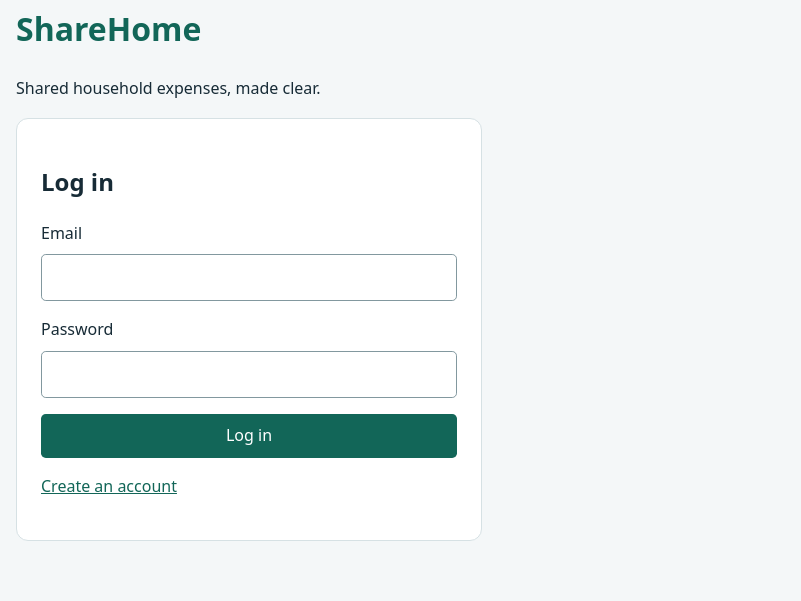
logs in, retrieves identity, stores only the token and logs out locally
In the field labelled "Email": (249, 278) [41,254,457,301], type "alex@example.com"
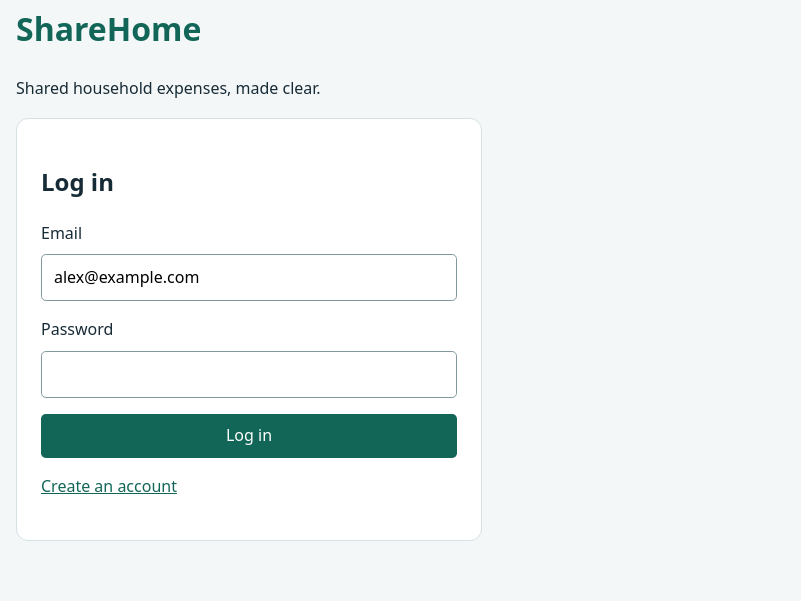
In the password field labelled "Password": (249, 374) [41,351,457,398], type "test-password"
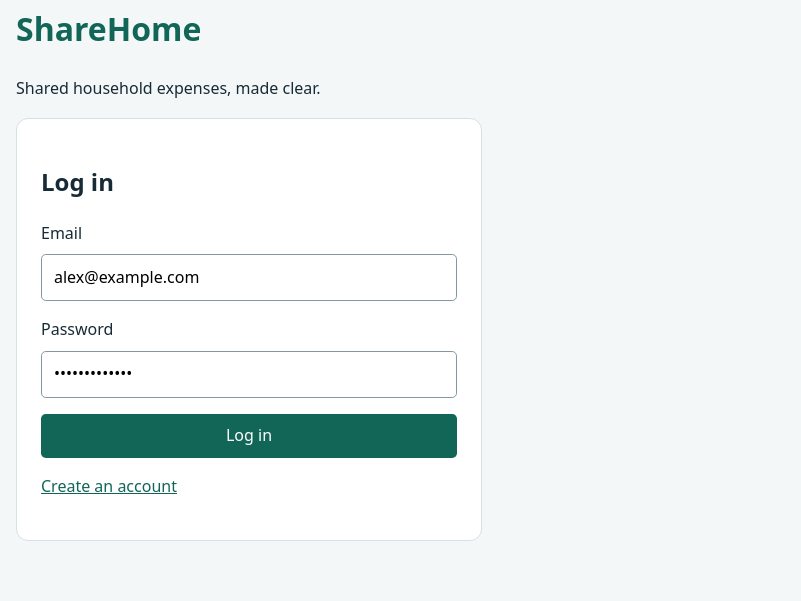
Click the button "Log in": (249, 436) [41,414,457,458]
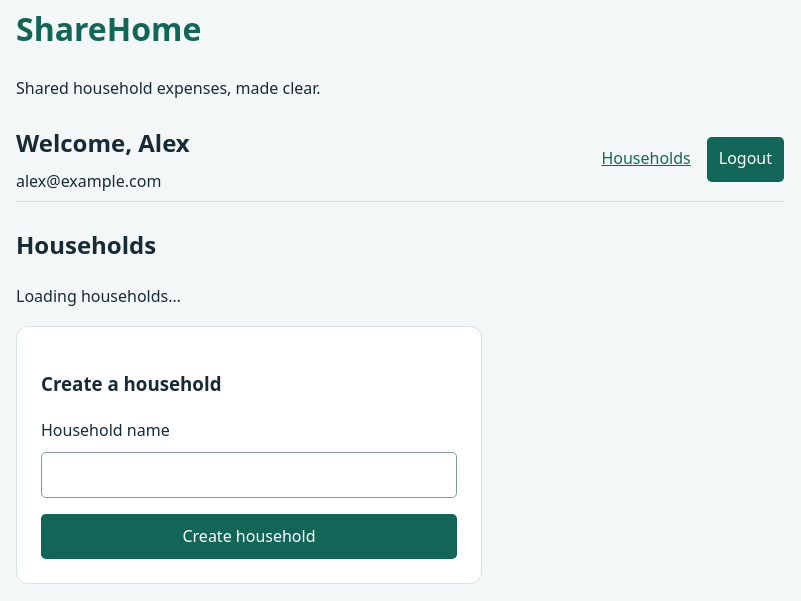
expect the heading "Welcome, Alex" is shown: met, box [16,124,190,162]
expect the text "alex@example.com" is shown: met, box [16,170,161,192]
expect the label labelled "Password" is gone: met
Click the button "Logout": (745, 159) [707,137,784,182]
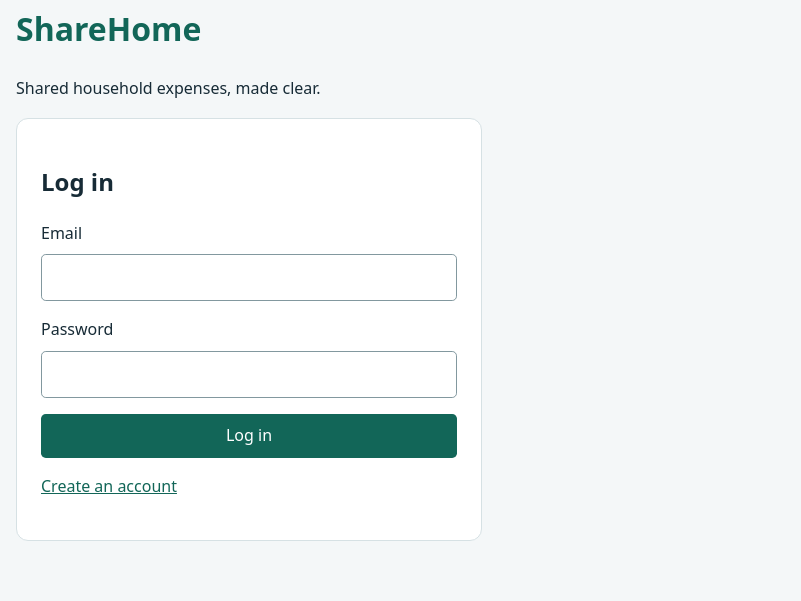
expect the heading "Log in" is shown: met, box [41,165,114,198]
expect the text "alex@example.com" is gone: met
